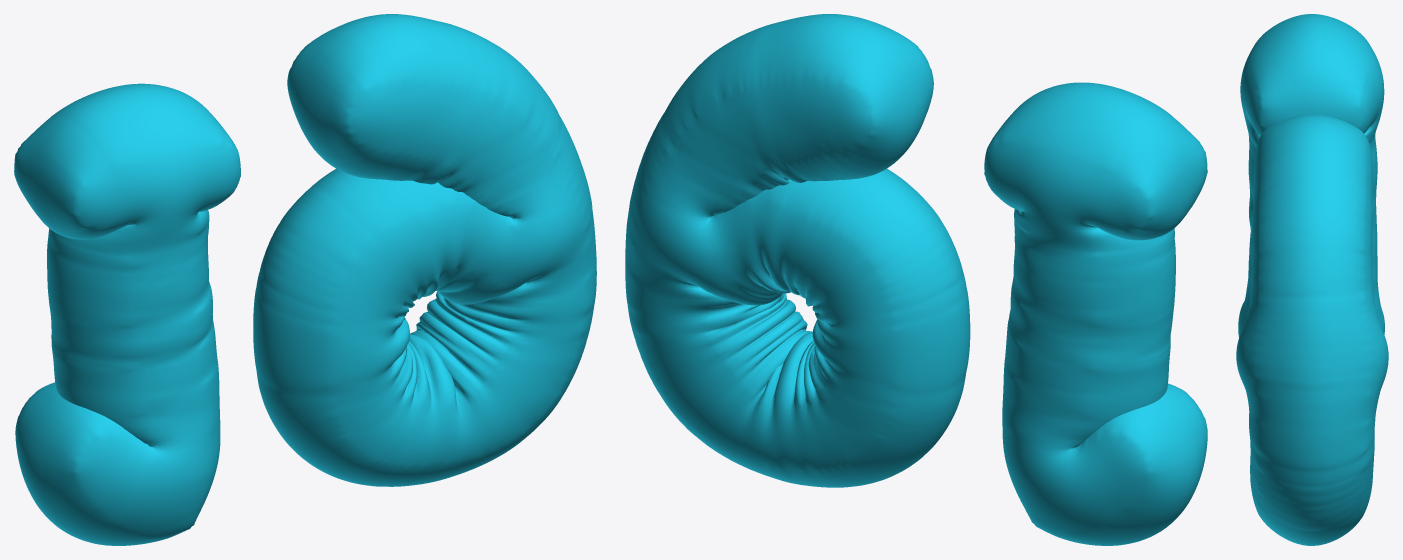
The picture shows the model from 3 angles, left to right: view 1: azimuth 30°, elevation 25°; view 2: azimuth 150°, elevation 25°; view 3: azimuth 270°, elevation 25°; orthographic projection. The views are drawn at different scales.
Parts seen in each view (by area): view 1: Text; view 2: Text; view 3: Text.
Boxes of the visible parts, x1,y1,x2,y2 form: Text: (14,14,596,545); Text: (625,14,1207,545); Text: (1236,14,1388,545).
Bounding box in the file's own units: 87.8 × 70.07 × 24.77.
